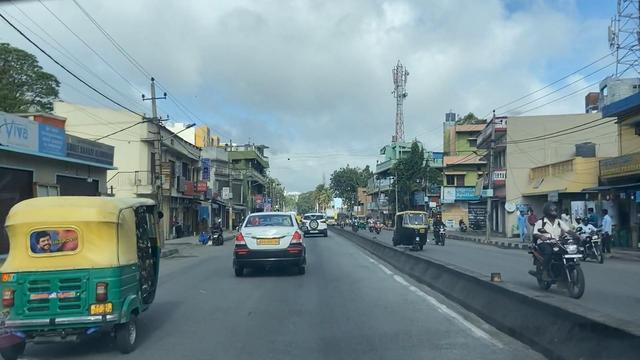LMV: (11, 196, 161, 353), (232, 213, 306, 280)
